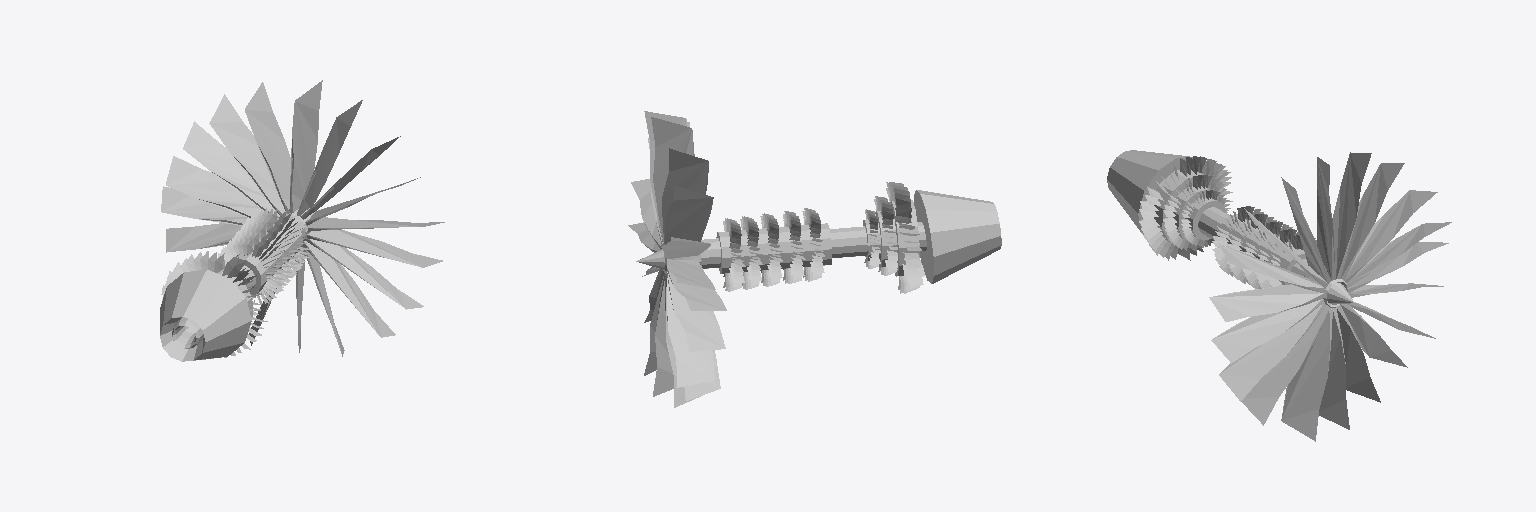
Rendered from jetengine.obj.
3 views of the same model, side by side, from view 1: azimuth 30°, elevation 25°; view 2: azimuth 150°, elevation 25°; view 3: azimuth 270°, elevation 25° (orthographic).
Visible parts, largest first — view 1: group[number redacted], group[number redacted], group[number redacted], group[number redacted], group[number redacted], group[number redacted], group[number redacted], group[number redacted]; view 2: group[number redacted], group[number redacted], group[number redacted], group[number redacted], group[number redacted], group[number redacted], group[number redacted], group[number redacted], group[number redacted], group[number redacted], group[number redacted], group[number redacted]; view 3: group[number redacted], group[number redacted], group[number redacted], group[number redacted], group[number redacted], group[number redacted], group[number redacted], group[number redacted], group[number redacted], group[number redacted], group[number redacted].
Part boxes in pixels (x1,y1,x2,y2): group[number redacted]: (161, 80, 444, 356); group[number redacted]: (160, 270, 251, 361); group[number redacted]: (161, 251, 267, 357); group[number redacted]: (230, 218, 302, 294); group[number redacted]: (217, 239, 284, 304); group[number redacted]: (232, 223, 299, 286); group[number redacted]: (225, 231, 291, 296); group[number redacted]: (238, 215, 306, 279); group[number redacted]: (628, 111, 726, 407); group[number redacted]: (914, 190, 1001, 283); group[number redacted]: (716, 223, 831, 273); group[number redacted]: (701, 222, 926, 268); group[number redacted]: (886, 182, 925, 293); group[number redacted]: (863, 200, 919, 276); group[number redacted]: (723, 218, 745, 291); group[number redacted]: (760, 213, 782, 286); group[number redacted]: (740, 216, 762, 289); group[number redacted]: (783, 211, 805, 283); group[number redacted]: (802, 208, 824, 281); group[number redacted]: (874, 196, 897, 275); group[number redacted]: (1209, 152, 1451, 441); group[number redacted]: (1107, 150, 1192, 234); group[number redacted]: (1139, 156, 1232, 260); group[number redacted]: (1154, 170, 1225, 242); group[number redacted]: (1217, 214, 1306, 284); group[number redacted]: (1163, 175, 1226, 251); group[number redacted]: (1212, 206, 1267, 276); group[number redacted]: (1198, 207, 1307, 275); group[number redacted]: (1181, 190, 1230, 247); group[number redacted]: (1226, 214, 1279, 284); group[number redacted]: (1241, 222, 1295, 288).
Bounding box in the file's own units: 2.02 × 1.58 × 1.84.